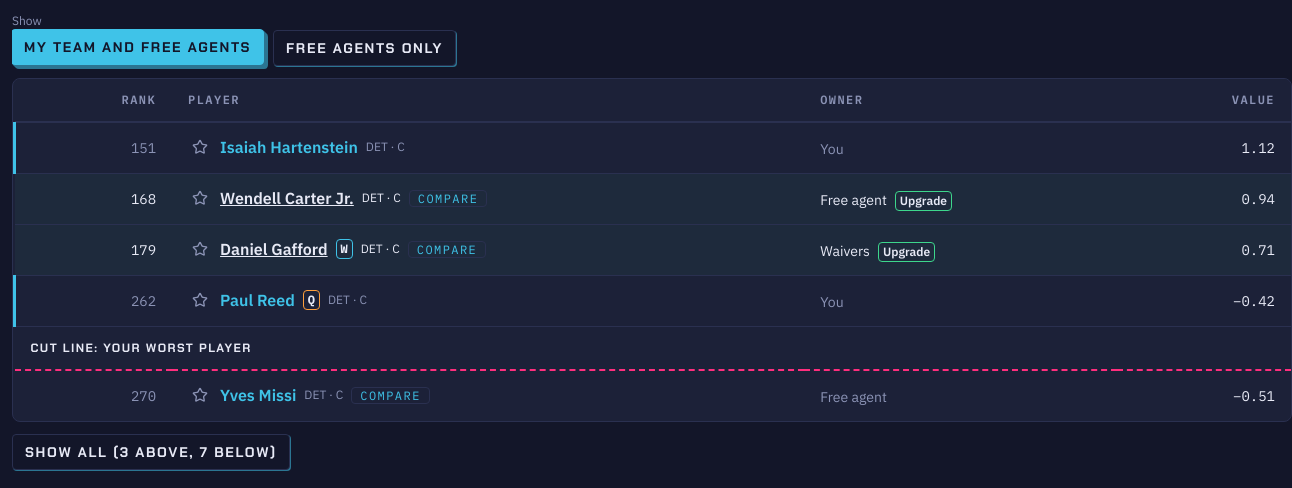
Scenario: CutLinePanel sorting › flips on a second click and returns to the window on a third
Click the button "Value": (1245, 100) top-left (1216, 91), bottom-right (1275, 109)
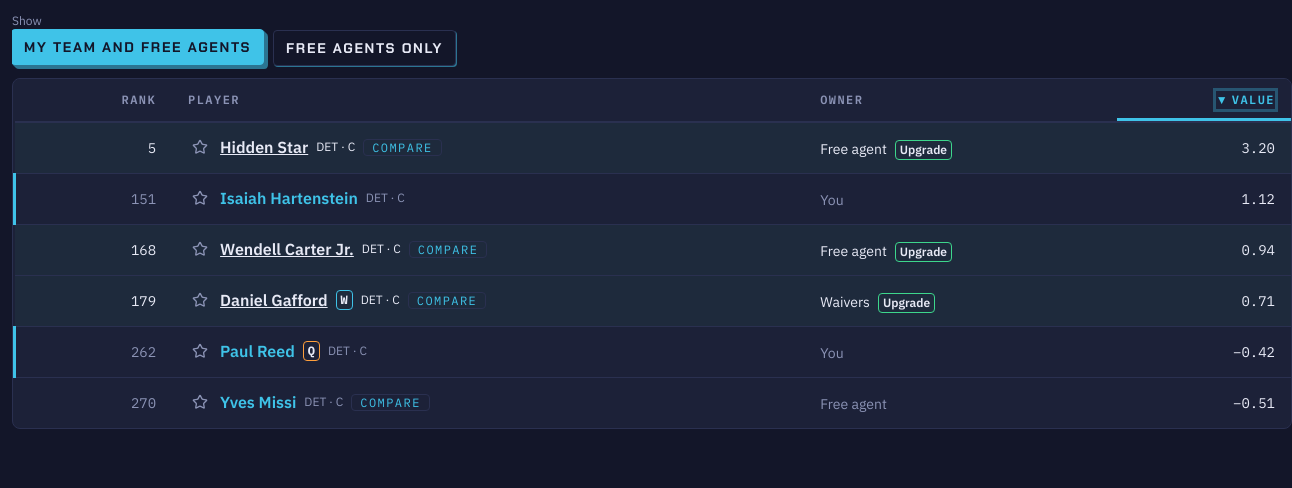
Click the button "Value ▼": (1245, 100) top-left (1216, 91), bottom-right (1275, 109)
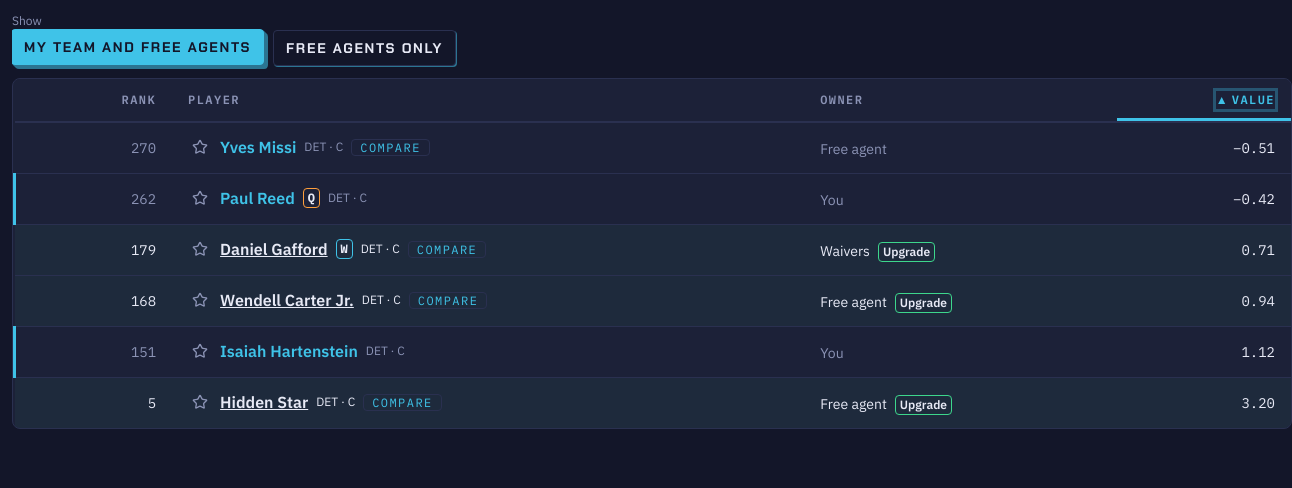
Expected: the link "Yves Missi" is shown, top-left (220, 135), bottom-right (296, 159)
Click the button "Value ▲": (1245, 100) top-left (1216, 91), bottom-right (1275, 109)
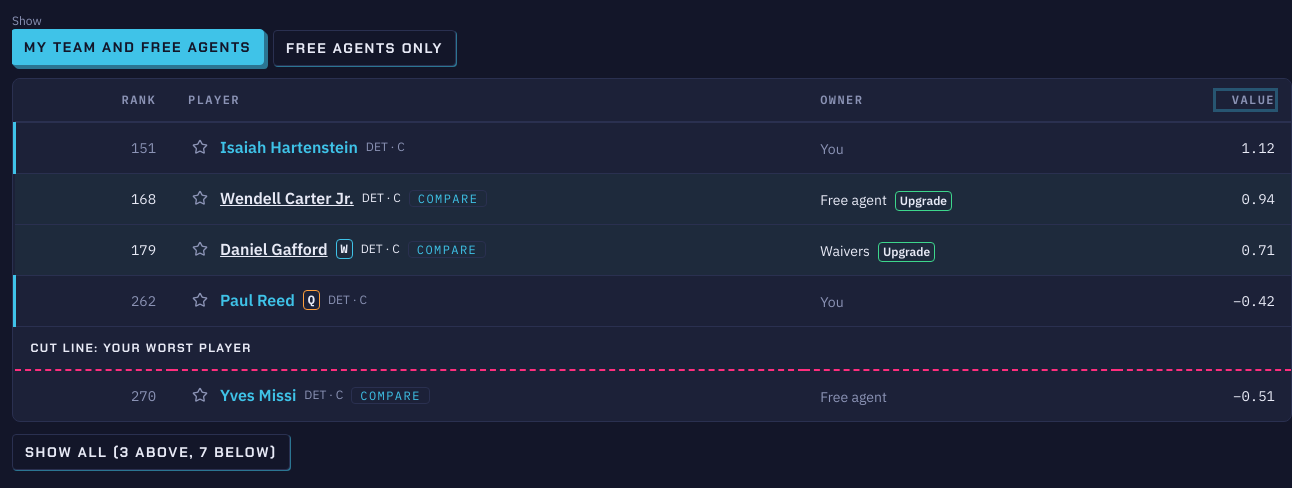
Expected: the column heading "Cut line: your worst player" is shown, top-left (14, 326), bottom-right (1291, 370)
Expected: the link "Hidden Star" no longer shows "Hidden Star"
Expected: the button "Show all (3 above, 7 below)" is shown, top-left (12, 434), bottom-right (290, 470)
